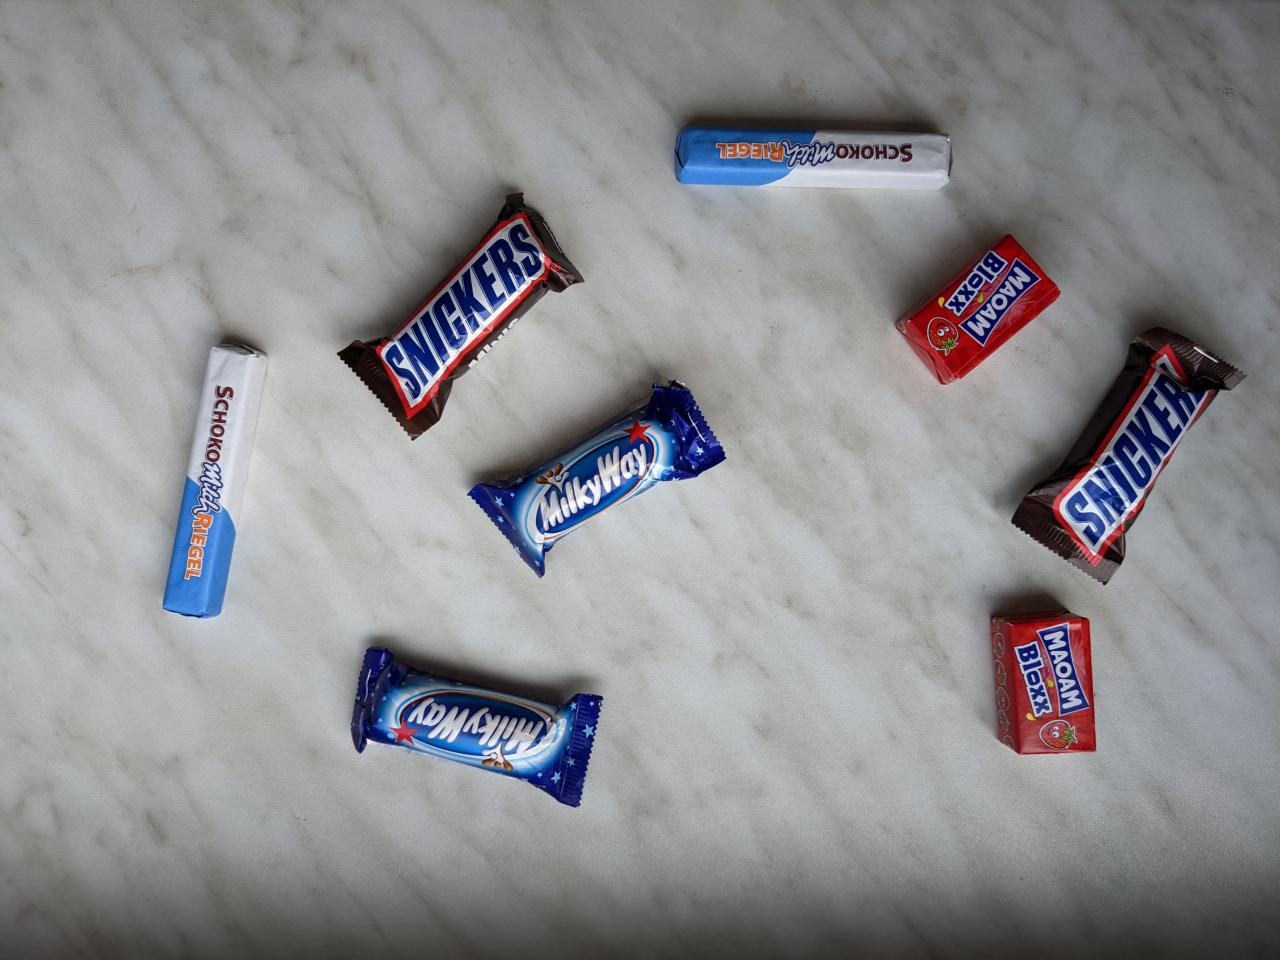MAOAM: (890, 230, 1065, 391), (984, 603, 1103, 761)
MilkyWay: (464, 373, 734, 584), (346, 643, 611, 813)
Schokoriegel: (156, 337, 274, 624), (670, 119, 958, 196)
Snickers: (1004, 319, 1256, 593), (331, 187, 594, 447)
